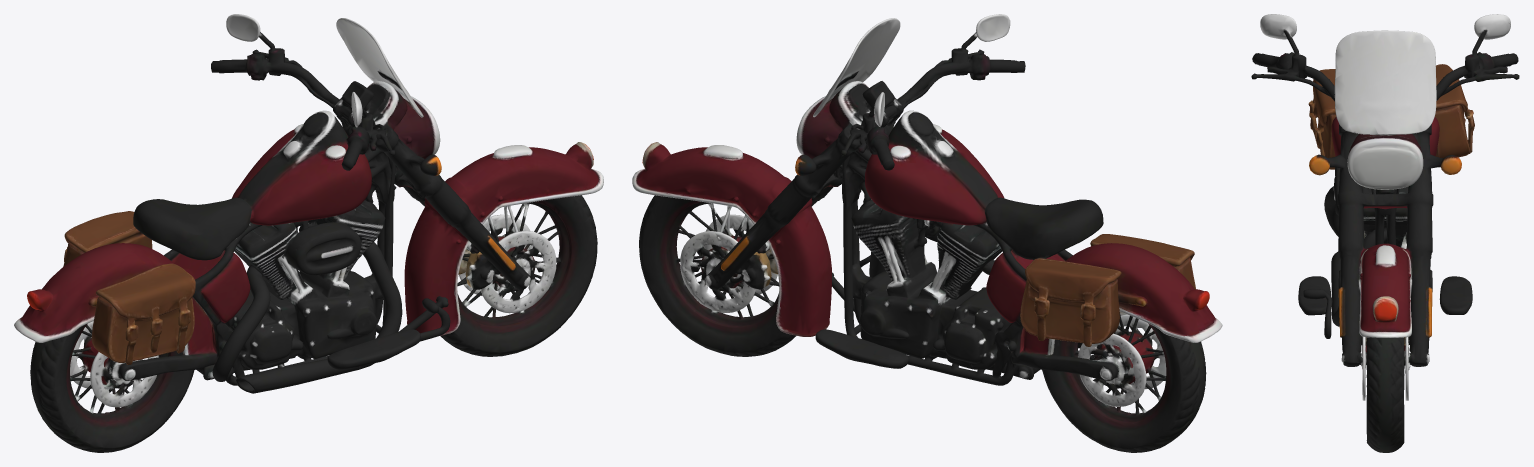
Rendered from 043_cruiser_red.glb.
3 views of the same model, side by side, from view 1: azimuth 30°, elevation 25°; view 2: azimuth 150°, elevation 25°; view 3: azimuth 270°, elevation 25° (orthographic). The views are drawn at different scales.
Parts seen in each view (by area): view 1: geometry_0; view 2: geometry_0; view 3: geometry_0.
Part boxes in pixels (x1,y1,x2,y2): geometry_0: (14, 14, 603, 452); geometry_0: (632, 14, 1222, 452); geometry_0: (1251, 14, 1519, 452).
Bounding box in the file's own units: 2.4 × 1.43 × 1.
1 material, 1 textured.
